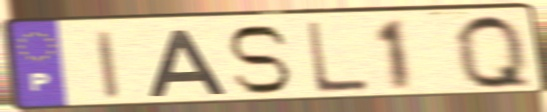1: (374, 16, 420, 95)
A: (145, 27, 230, 99)
I: (93, 27, 123, 101)
L: (302, 20, 371, 96)
Q: (450, 11, 538, 92)
S: (223, 22, 294, 97)
